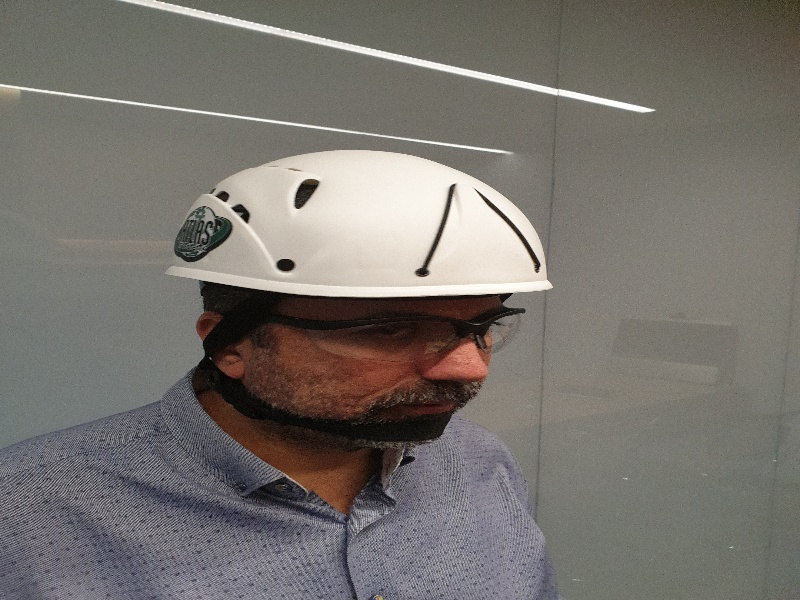Baret: (167, 149, 554, 297)
Gozluk: (234, 302, 530, 357)
